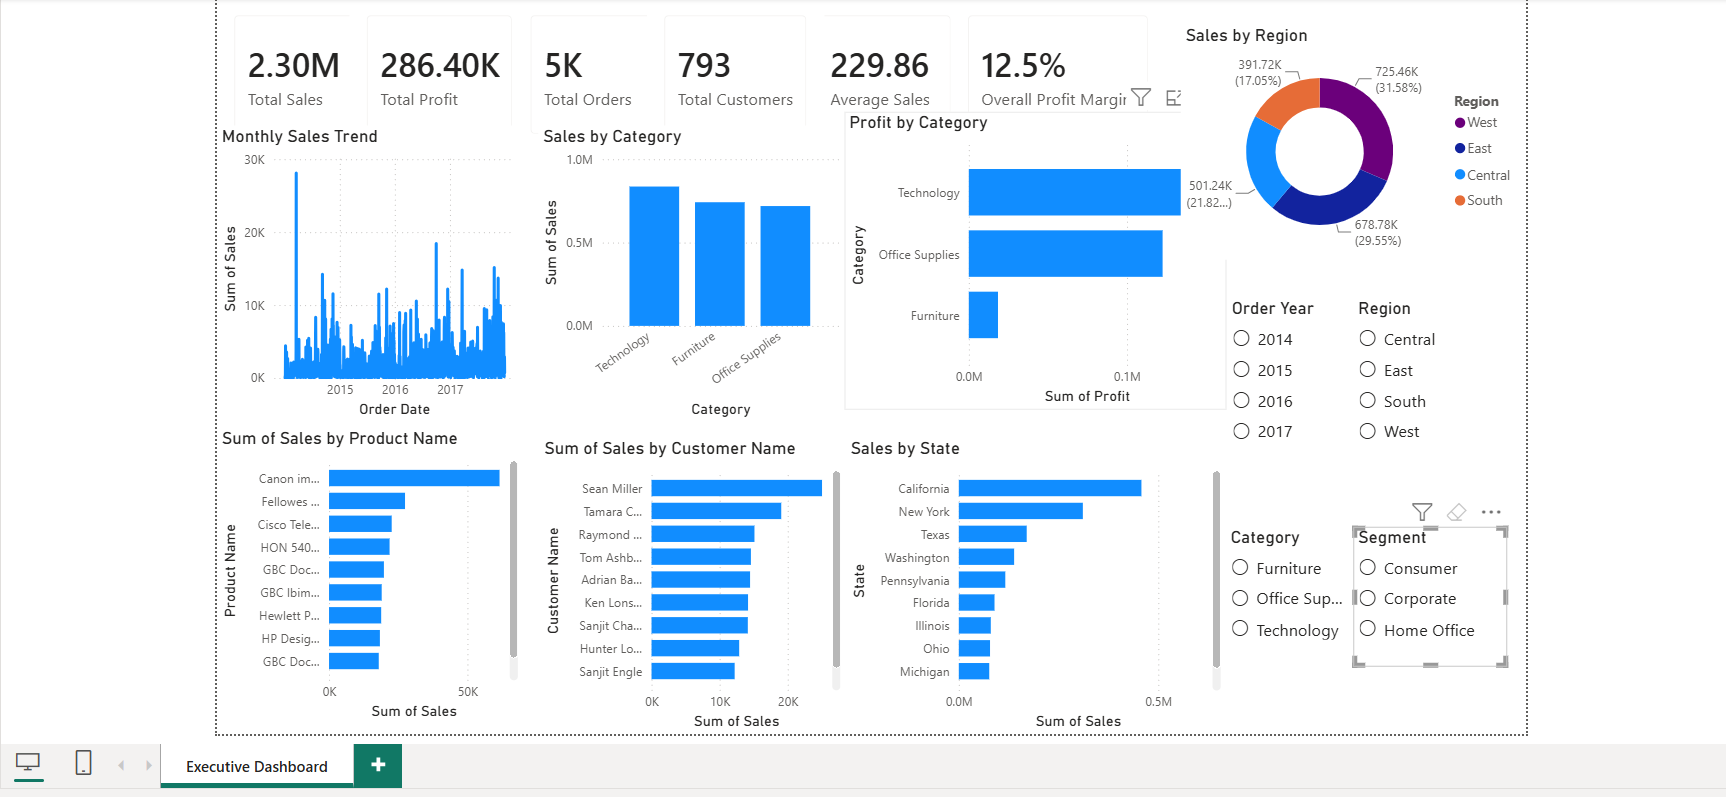

Layout of this report page (visuals, bound fields, positions):
{"tool":"powerbi","page":{"name":"Executive Dashboard","canvas":[1280,720],"ordinal":0},"visuals":[{"type":"cardVisual","fields":{"Data":["feature_engineered_superstore.Total Sales"]},"box":[0,0,155.3,150.4],"z":1000},{"type":"cardVisual","fields":{"Data":["feature_engineered_superstore.Total Profit"]},"box":[129.6,0,176.1,150.4],"z":2000},{"type":"cardVisual","fields":{"Data":["feature_engineered_superstore.Overall Profit Margin"]},"box":[717.8,0,210.3,150.4],"z":4000},{"type":"cardVisual","fields":{"Data":["feature_engineered_superstore.Average Sales"]},"box":[569.8,0,165.1,150.4],"z":5000},{"type":"cardVisual","fields":{"Data":["feature_engineered_superstore.Total Orders"]},"box":[289.8,0,152.9,150.4],"z":6000},{"type":"cardVisual","fields":{"Data":["feature_engineered_superstore.Total Customers"]},"box":[420.7,0,173.6,150.4],"z":7000},{"type":"lineChart","title":"Monthly Sales Trend","fields":{"Y":["Sum(feature_engineered_superstore.Sales)"],"Category":["feature_engineered_superstore.Order Date"]},"box":[0,124.7,299.6,291],"z":8000},{"type":"clusteredColumnChart","title":"Sales by Category","fields":{"Y":["Sum(feature_engineered_superstore.Sales)"],"Category":["feature_engineered_superstore.Category"]},"box":[314.3,124.7,299.6,291],"z":8001},{"type":"clusteredBarChart","title":"Profit by Category","fields":{"Category":["feature_engineered_superstore.Category"],"Y":["Sum(feature_engineered_superstore.Profit)"]},"box":[613.9,111.3,373,291],"z":8002},{"type":"donutChart","title":"Sales by Region","fields":{"Category":["feature_engineered_superstore.Region"],"Y":["Sum(feature_engineered_superstore.Sales)"]},"box":[943.1,26,337.2,230.3],"z":8003},{"type":"clusteredBarChart","fields":{"Category":["feature_engineered_superstore.Product Name"],"Y":["Sum(feature_engineered_superstore.Sales)"]},"box":[0,420.7,299.6,289.8],"z":8004},{"type":"clusteredBarChart","fields":{"Category":["feature_engineered_superstore.Customer Name"],"Y":["Sum(feature_engineered_superstore.Sales)"]},"box":[315.5,430.4,299.6,289.8],"z":8005},{"type":"clusteredBarChart","title":"Sales by State","fields":{"Category":["feature_engineered_superstore.State"],"Y":["Sum(feature_engineered_superstore.Sales)"]},"box":[615,430,372,290],"z":8006},{"type":"listSlicer","fields":{"Values":["feature_engineered_superstore.Order Year"]},"box":[988.3,293.3,123.4,170],"z":8007},{"type":"listSlicer","fields":{"Values":["feature_engineered_superstore.Region"]},"box":[1111.7,293.3,124.7,154.9],"z":8008},{"type":"listSlicer","fields":{"Values":["feature_engineered_superstore.Category"]},"box":[986.9,516.8,124.7,146.7],"z":8009},{"type":"listSlicer","fields":{"Values":["feature_engineered_superstore.Segment"]},"box":[1111.7,516.8,150.8,137.1],"z":8010}]}

Visuals, with their boxes on the page's 1280x720 design canvas (x1, y1, x2, y2). These are canvas units, not pixel positions in the 1726x797 screenshot, which may show the page scaled, cropped or inside an application window:
cardVisual - feature_engineered_superstore.Total Sales: [0, 0, 155, 150]
cardVisual - feature_engineered_superstore.Total Profit: [130, 0, 306, 150]
cardVisual - feature_engineered_superstore.Overall Profit Margin: [718, 0, 928, 150]
cardVisual - feature_engineered_superstore.Average Sales: [570, 0, 735, 150]
cardVisual - feature_engineered_superstore.Total Orders: [290, 0, 443, 150]
cardVisual - feature_engineered_superstore.Total Customers: [421, 0, 594, 150]
"Monthly Sales Trend" lineChart: [0, 125, 300, 416]
"Sales by Category" clusteredColumnChart: [314, 125, 614, 416]
"Profit by Category" clusteredBarChart: [614, 111, 987, 402]
"Sales by Region" donutChart: [943, 26, 1280, 256]
clusteredBarChart - feature_engineered_superstore.Product Name x Sum(feature_engineered_superstore.Sales): [0, 421, 300, 710]
clusteredBarChart - feature_engineered_superstore.Customer Name x Sum(feature_engineered_superstore.Sales): [316, 430, 615, 720]
"Sales by State" clusteredBarChart: [615, 430, 987, 720]
listSlicer - feature_engineered_superstore.Order Year: [988, 293, 1112, 463]
listSlicer - feature_engineered_superstore.Region: [1112, 293, 1236, 448]
listSlicer - feature_engineered_superstore.Category: [987, 517, 1112, 664]
listSlicer - feature_engineered_superstore.Segment: [1112, 517, 1262, 654]
